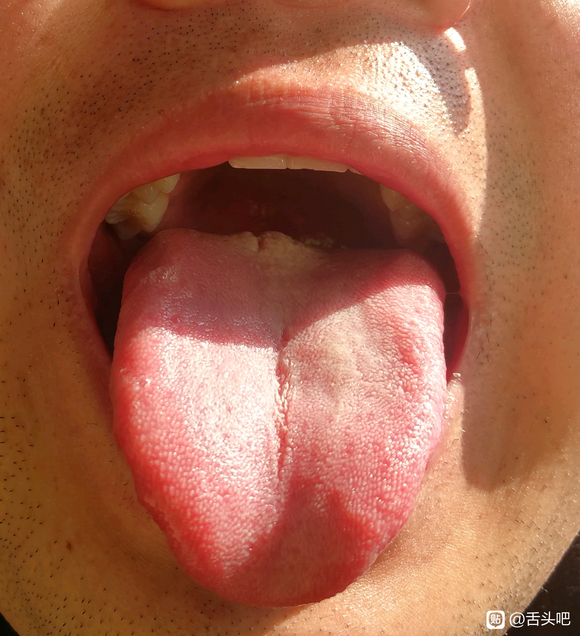baitaishe: (109, 228, 446, 608)
chihenshe: (110, 383, 178, 555)
hongshe: (109, 228, 446, 608)
liewenshe: (273, 322, 294, 496)
